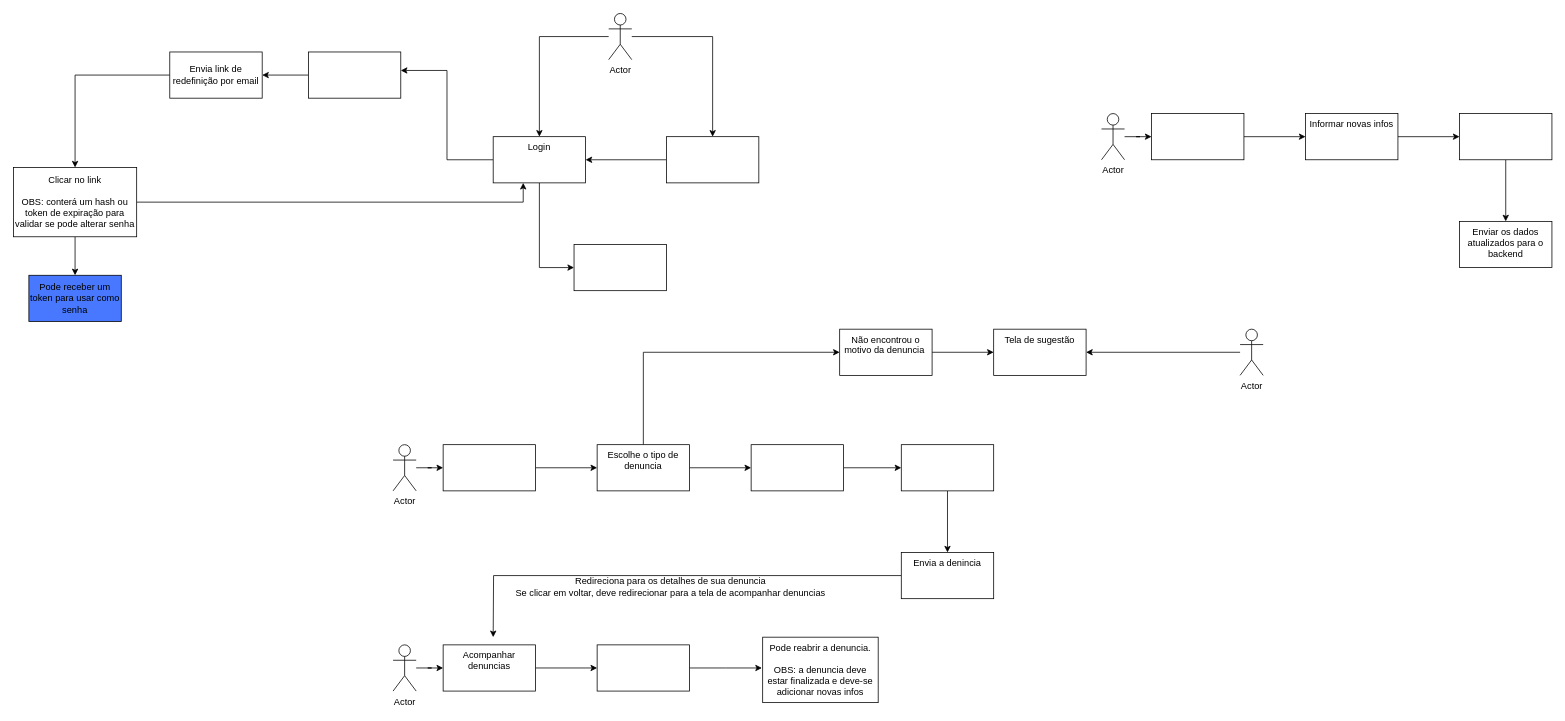
This 1565x721 diagram has some shape labels left out. Here are the shapes that lost their labels. From the top down, the centre of each, then its label:
the point at 354,74: Esqueceu senha
the point at 1197,136: Editar perfil
the point at 1505,136: Validar senha antes de alterar o cadastro
the point at 712,159: Cadastro
the point at 619,267: Dashboard
the point at 489,467: Nova denuncia
the point at 797,467: Preencher os campos
the point at 947,467: Tirar foto / escolher foto
the point at 643,667: Exibir detalhes de cada denuncia
